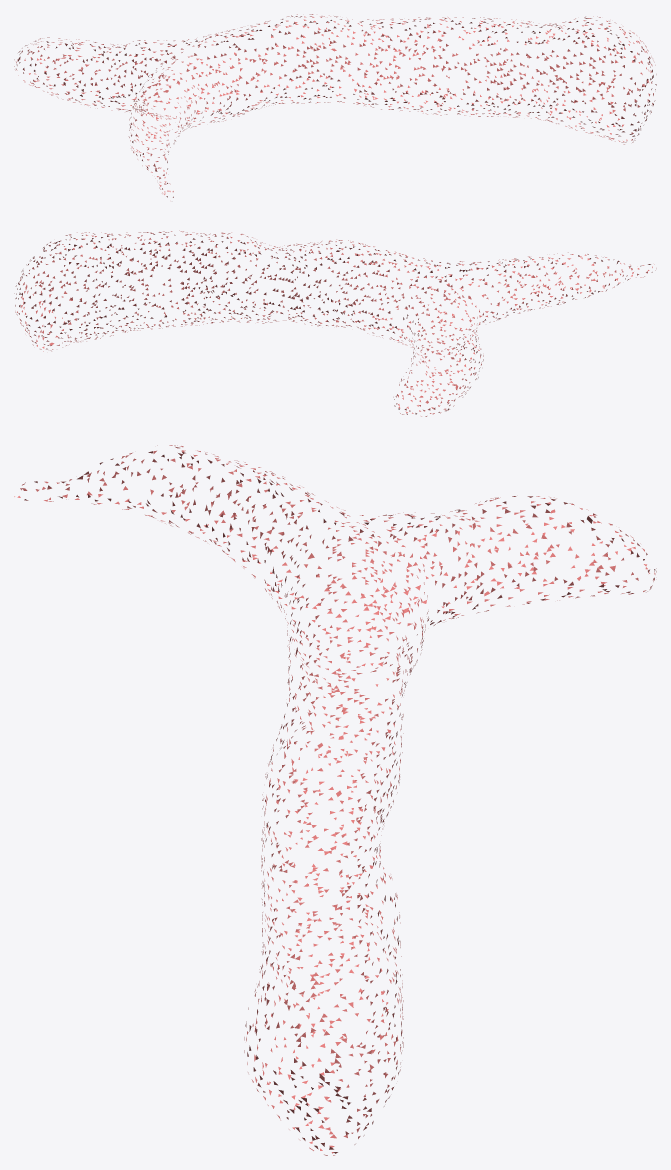
Rendered from morph_000.glb.
3 views of the same model, one above another, from view 1: azimuth 30°, elevation 25°; view 2: azimuth 150°, elevation 25°; view 3: azimuth 270°, elevation 25° (orthographic). The views are drawn at different scales.
Size of the model in its own units: 133 by 43.34 by 81.05.
